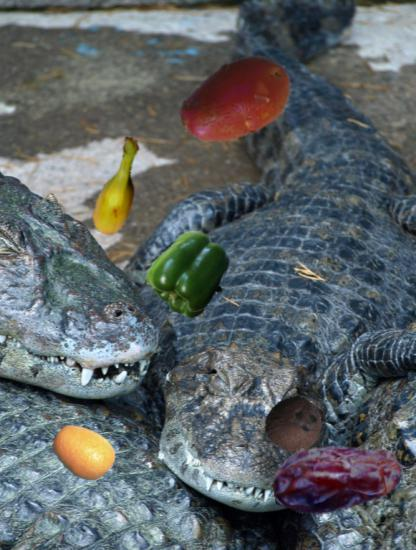Banana: (68, 134, 173, 239)
Cocos: (264, 395, 323, 454)
Dates: (272, 412, 404, 544)
Kumquats: (52, 420, 116, 484)
Pepper: (146, 230, 233, 317)
Potato: (177, 42, 296, 161)
